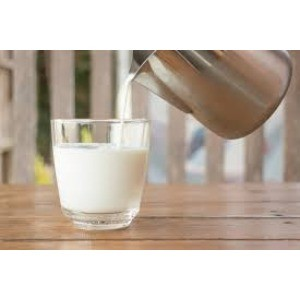milk_brain food: (52, 125, 151, 227)
